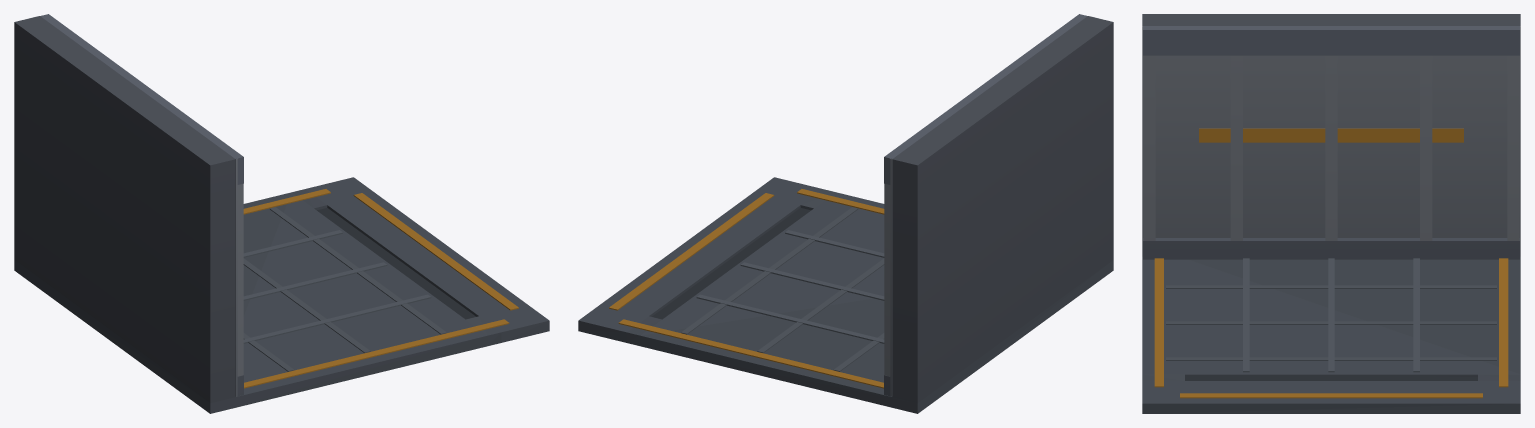
File: corridor-t.glb
3 views of the same model, side by side, from view 1: azimuth 30°, elevation 25°; view 2: azimuth 150°, elevation 25°; view 3: azimuth 270°, elevation 25° (orthographic). The views are drawn at different scales.
Visible parts, largest first — view 1: corridor_t; view 2: corridor_t; view 3: corridor_t.
Boxes of the visible parts, bbox=[...] form: corridor_t: bbox=[14, 14, 549, 413]; corridor_t: bbox=[578, 14, 1113, 413]; corridor_t: bbox=[1142, 14, 1520, 413].
Size of the model in its own units: 4 by 2.8 by 4.
